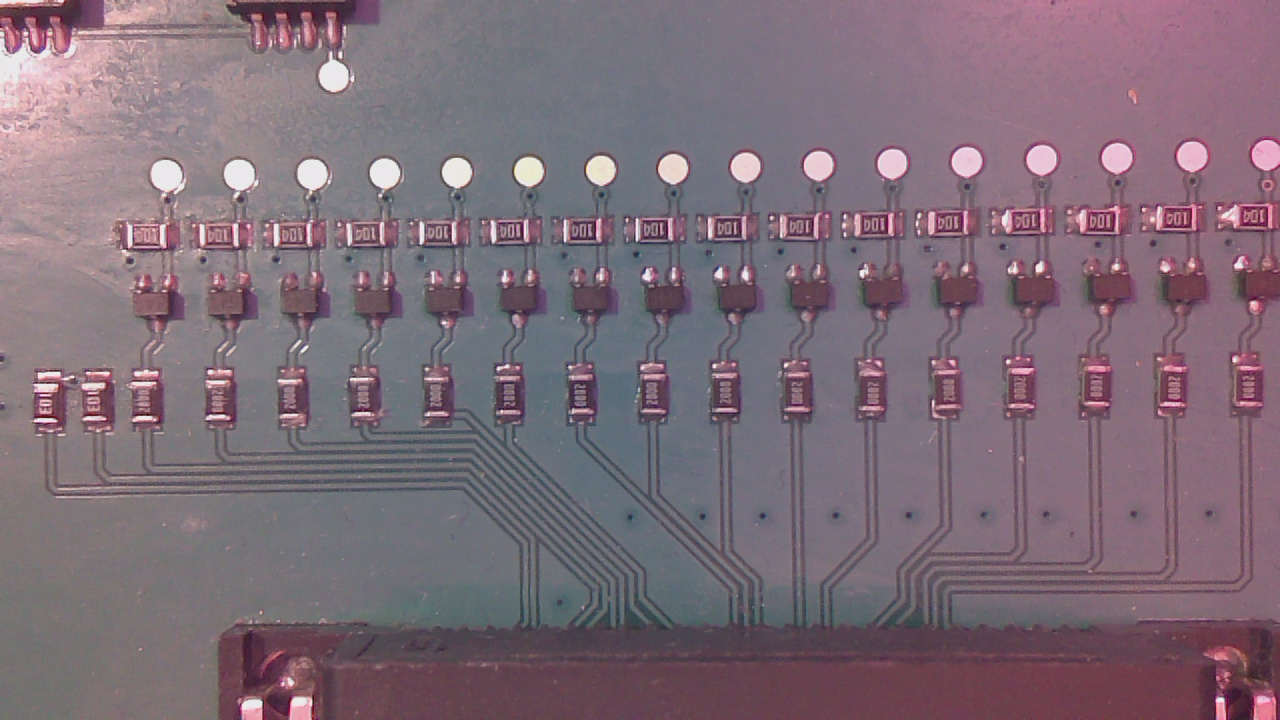Resistor: (859, 368, 892, 421), (125, 226, 179, 258), (1009, 370, 1043, 420), (1164, 366, 1196, 419), (937, 374, 971, 423), (1086, 369, 1118, 419), (1081, 211, 1132, 242), (1236, 369, 1269, 416), (1156, 207, 1207, 237), (199, 226, 253, 254), (716, 372, 746, 422), (645, 372, 674, 423), (1234, 205, 1280, 237), (134, 384, 166, 430), (788, 374, 820, 420), (489, 223, 541, 251), (1009, 212, 1059, 241), (85, 386, 116, 432), (417, 225, 469, 252), (498, 380, 529, 425), (571, 377, 602, 422), (353, 382, 385, 425), (566, 220, 612, 249), (638, 217, 682, 247), (784, 217, 829, 246), (857, 215, 905, 242), (427, 379, 456, 423), (39, 387, 67, 431), (709, 220, 756, 246), (211, 383, 237, 430), (349, 225, 395, 251), (278, 227, 321, 254), (934, 214, 977, 241), (284, 382, 310, 426)
Transistor: (1165, 261, 1210, 319), (212, 278, 259, 333), (939, 270, 985, 325), (1090, 267, 1138, 319), (137, 280, 183, 334), (864, 270, 910, 324), (1015, 267, 1061, 321), (647, 273, 690, 330), (720, 272, 764, 327), (284, 278, 329, 331), (574, 275, 619, 328), (793, 271, 836, 325), (1239, 260, 1280, 316), (430, 278, 473, 331), (359, 277, 399, 330), (506, 275, 542, 333)
